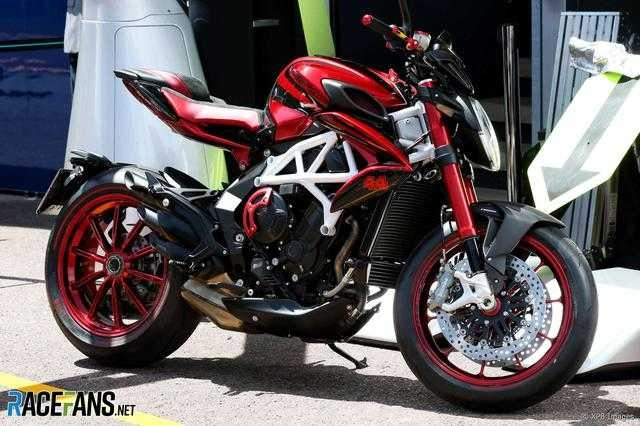motorbike: (34, 13, 598, 415)
